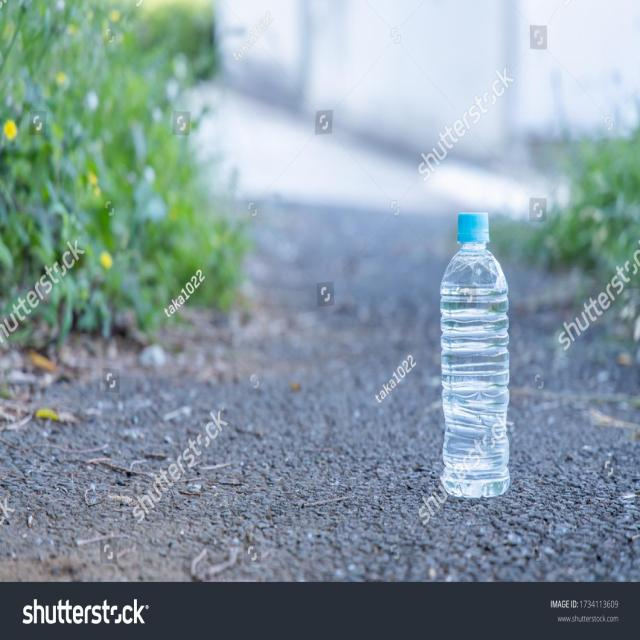bottle: (430, 202, 519, 508)
